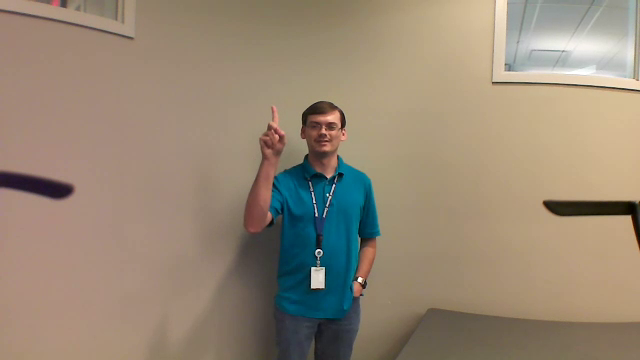up: (254, 100, 289, 165)
